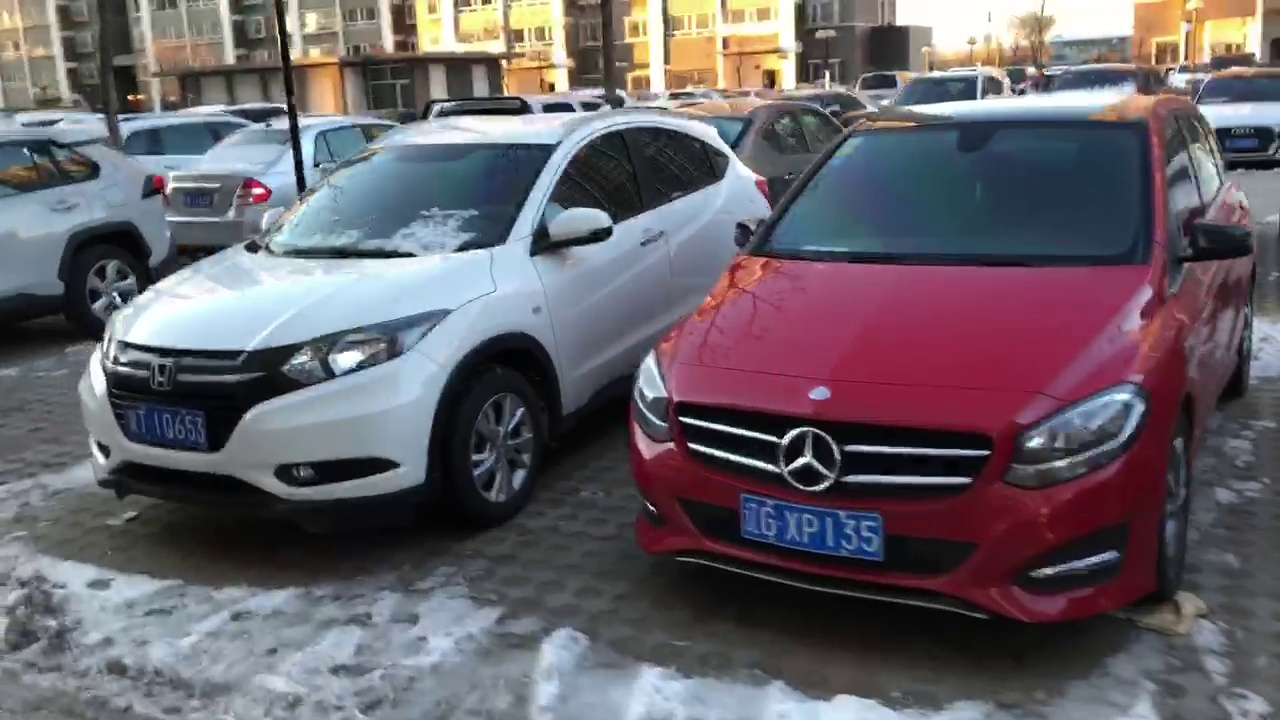plate: (741, 495, 889, 563), (118, 412, 212, 445)
